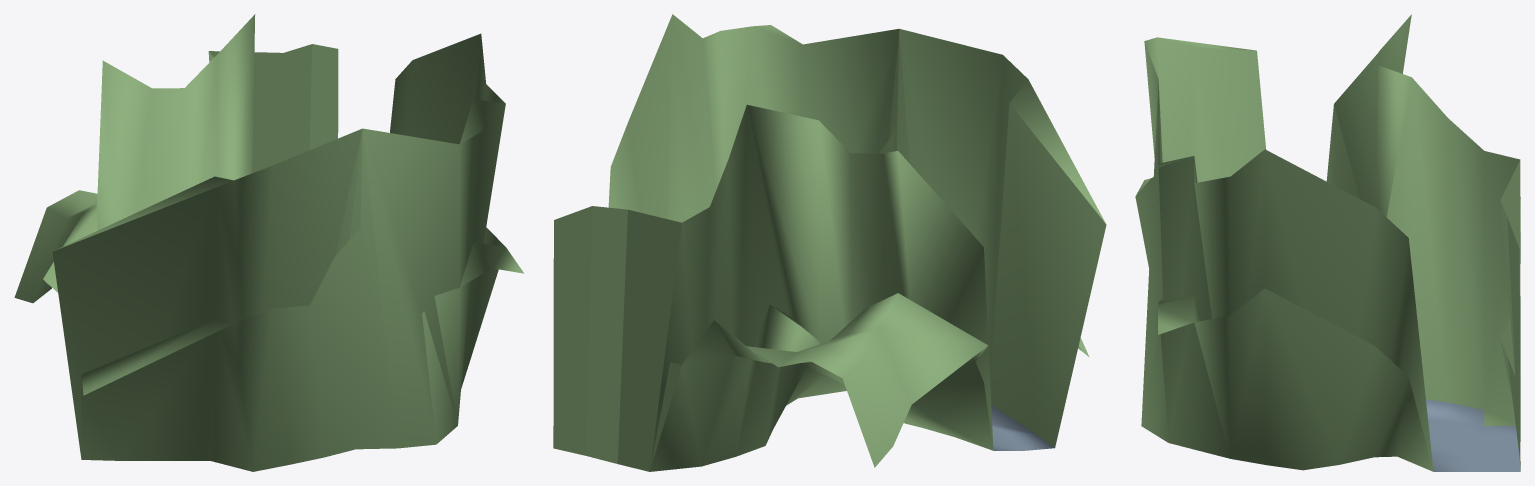
File: level_7.fbx
3 views of the same model, side by side, from view 1: azimuth 30°, elevation 25°; view 2: azimuth 150°, elevation 25°; view 3: azimuth 270°, elevation 25° (orthographic). The views are drawn at different scales.
Parts seen in each view (by area): view 1: simple, pPlane7; view 2: simple, pPlane7; view 3: simple, pPlane7.
Part boxes in pixels (x1,y1,x2,y2): simple: [52, 14, 505, 457]; pPlane7: [14, 190, 523, 471]; simple: [553, 14, 1106, 471]; pPlane7: [650, 131, 1089, 471]; simple: [1141, 14, 1520, 469]; pPlane7: [1135, 177, 1520, 471].
Size of the model in its own units: 61.75 by 46.2 by 49.02.
